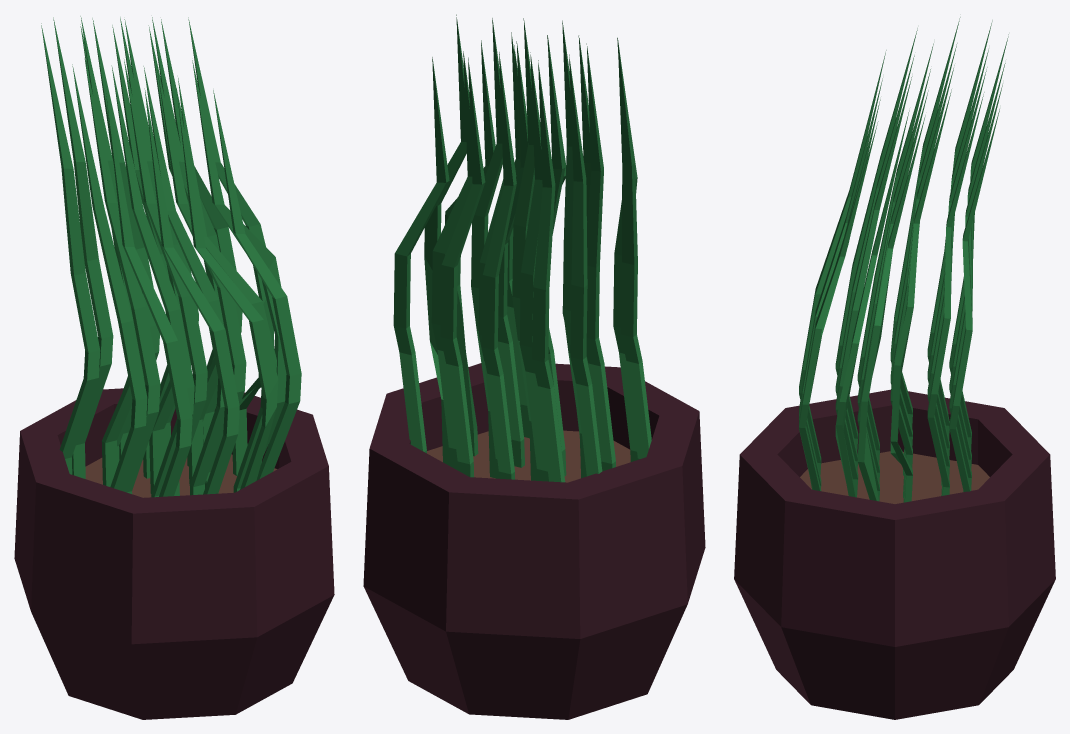
Rendered from plant.fbx.
3 views of the same model, side by side, from view 1: azimuth 30°, elevation 25°; view 2: azimuth 150°, elevation 25°; view 3: azimuth 270°, elevation 25° (orthographic). The views are drawn at different scales.
Visible parts, largest first — view 1: plant; view 2: plant; view 3: plant.
Boxes of the visible parts, bbox=[...] form: plant: bbox=[14, 16, 334, 719]; plant: bbox=[363, 14, 705, 719]; plant: bbox=[734, 17, 1055, 719].
Size of the model in its own units: 271 by 583 by 271.
